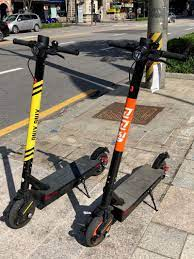kick_board: (85, 38, 185, 247), (7, 36, 108, 227)
kick_handler: (107, 37, 186, 64), (13, 35, 79, 57)
kick_neck: (21, 61, 44, 175)
kick_wheel: (7, 195, 35, 229), (86, 214, 113, 246), (93, 147, 108, 173), (158, 159, 168, 178)
